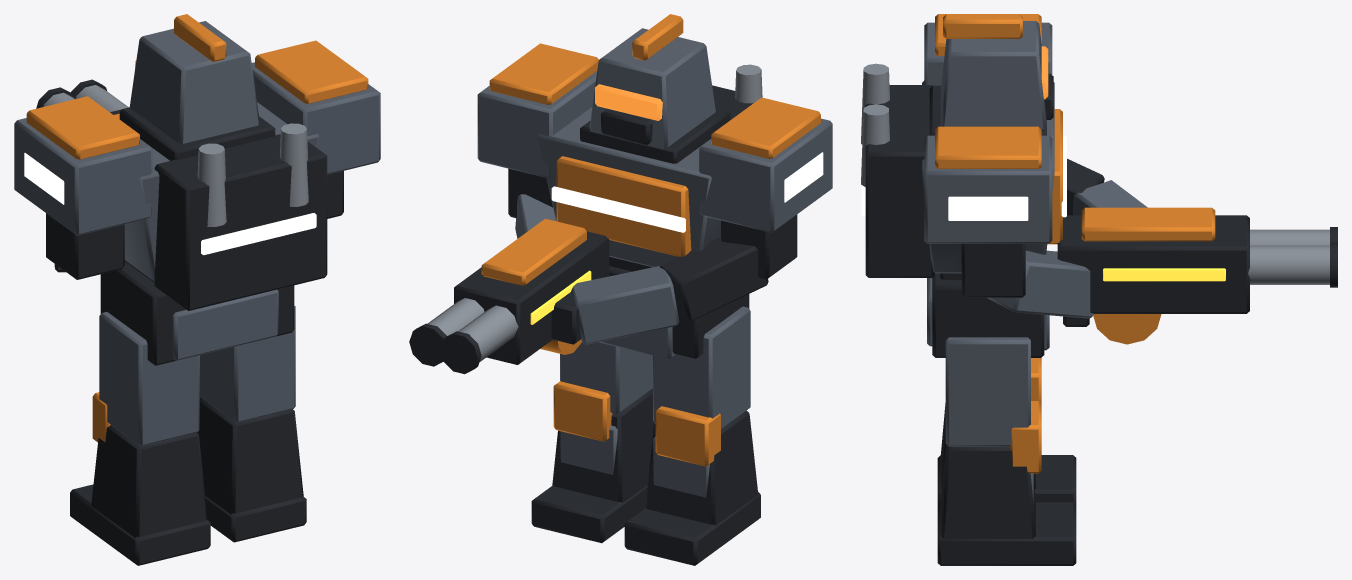
The model's file is hero_kodiak.glb.
The picture shows the model from 3 angles, left to right: view 1: azimuth 30°, elevation 25°; view 2: azimuth 150°, elevation 25°; view 3: azimuth 270°, elevation 25°; orthographic projection. The views are drawn at different scales.
Visible parts, largest first — view 1: torso, legL, legR, armL, head, armR, hips, weapon; view 2: armL, legL, torso, legR, weapon, armR, head, hips; view 3: weapon, legR, armR, torso, head, hips, armL, legL.
Part boxes in pixels (box(x1,y1,x2,y2)): torso: box(119, 102, 327, 310); legL: box(70, 312, 210, 565); legR: box(197, 306, 306, 542); armL: box(14, 96, 152, 279); head: box(129, 14, 259, 143); armR: box(251, 40, 380, 218); hips: box(100, 261, 294, 365); weapon: box(36, 79, 128, 119); armL: box(551, 97, 832, 344); legL: box(624, 306, 760, 565); torso: box(537, 64, 762, 271); legR: box(531, 342, 655, 543); weapon: box(409, 218, 609, 374); armR: box(477, 43, 598, 238); head: box(589, 14, 715, 149); hips: box(599, 266, 749, 359); weapon: box(1057, 207, 1337, 344); legR: box(937, 337, 1076, 565); armR: box(924, 126, 1093, 318); torso: box(861, 63, 1066, 279); head: box(940, 14, 1053, 129); hips: box(927, 273, 1049, 357); armL: box(924, 14, 1147, 215); legL: box(937, 358, 1076, 504).
Bounding box in the file's own units: 1.35 × 2.1 × 1.79.
